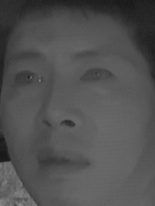eye: (77, 65, 117, 87), (10, 69, 47, 91)
mouth: (36, 144, 91, 177)
